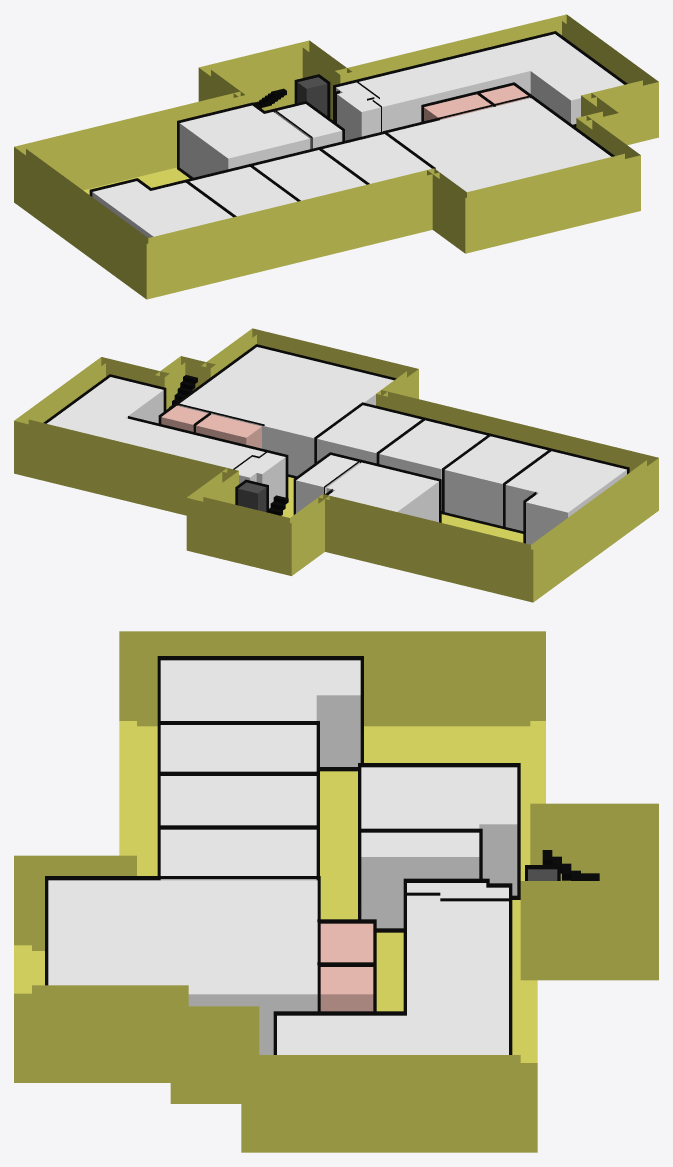
3 views of the same model, one above another, from view 1: azimuth 30°, elevation 25°; view 2: azimuth 150°, elevation 25°; view 3: azimuth 270°, elevation 25° (orthographic). The views are drawn at different scales.
Parts seen in each view (by area): view 1: object, room_L_5_7, room_L_5_4, room_L_5_2, room_L_5_6, room_L_5_3, room_L_5_8, room_L_5_1, room_L_5_5, object_line.005, トイレ_L_5_2, エレベーター_L_5_1 (+7 smaller); view 2: object, room_L_5_4, room_L_5_7, room_L_5_6, room_L_5_1, room_L_5_2, room_L_5_3, room_L_5_8, room_L_5_5, トイレ_L_5_2, object_line.005, object_line.010 (+7 smaller); view 3: object, room_L_5_4, room_L_5_7, room_L_5_6, room_L_5_2, room_L_5_3, room_L_5_8, room_L_5_5, room_L_5_1, object_line.005, トイレ_L_5_1, トイレ_L_5_2 (+7 smaller).
Boxes of the visible parts, <box> form: object: <box>14,14,658,299</box>; room_L_5_7: <box>336,34,623,140</box>; room_L_5_4: <box>388,98,611,191</box>; room_L_5_2: <box>179,105,309,177</box>; room_L_5_6: <box>92,181,232,237</box>; room_L_5_3: <box>254,150,366,200</box>; room_L_5_8: <box>323,134,431,183</box>; room_L_5_1: <box>189,167,296,216</box>; room_L_5_5: <box>275,104,342,149</box>; object_line.005: <box>333,31,627,131</box>; トイレ_L_5_2: <box>424,94,493,120</box>; エレベーター_L_5_1: <box>297,77,327,115</box>; object: <box>14,328,658,602</box>; room_L_5_4: <box>177,347,393,476</box>; room_L_5_7: <box>47,377,285,508</box>; room_L_5_6: <box>505,451,626,544</box>; room_L_5_1: <box>444,436,547,526</box>; room_L_5_2: <box>326,462,438,522</box>; room_L_5_3: <box>379,420,486,510</box>; room_L_5_8: <box>317,405,421,463</box>; room_L_5_5: <box>296,455,359,513</box>; トイレ_L_5_2: <box>196,414,261,448</box>; object_line.005: <box>43,374,288,497</box>; object_line.010: <box>503,448,629,543</box>; object: <box>14,631,658,1152</box>; room_L_5_4: <box>48,880,317,1054</box>; room_L_5_7: <box>277,883,508,1054</box>; room_L_5_6: <box>160,660,360,766</box>; room_L_5_2: <box>361,767,517,895</box>; room_L_5_3: <box>160,776,316,825</box>; room_L_5_8: <box>160,829,316,880</box>; room_L_5_5: <box>361,832,479,928</box>; room_L_5_1: <box>160,725,316,771</box>; object_line.005: <box>273,878,512,1054</box>; トイレ_L_5_1: <box>320,967,373,1011</box>; トイレ_L_5_2: <box>320,923,373,962</box>.
Bounding box in the file's own units: 2.36 × 0.2287 × 1.49.
